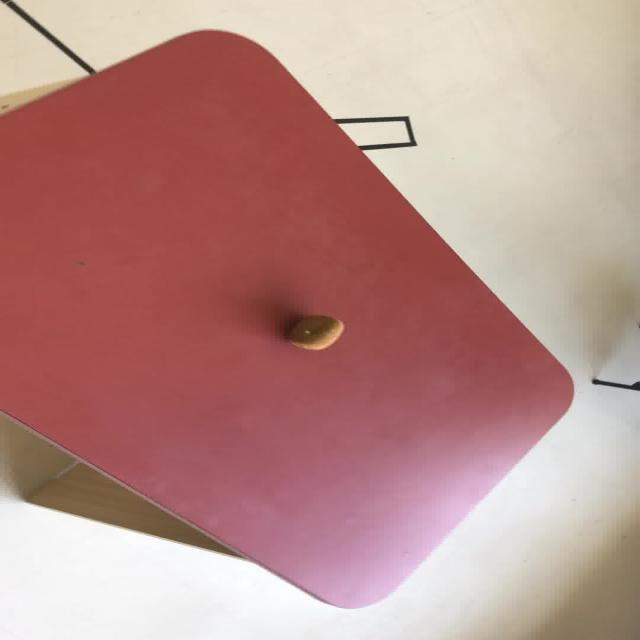kiwi: (1, 27, 576, 608), (283, 314, 344, 351)
